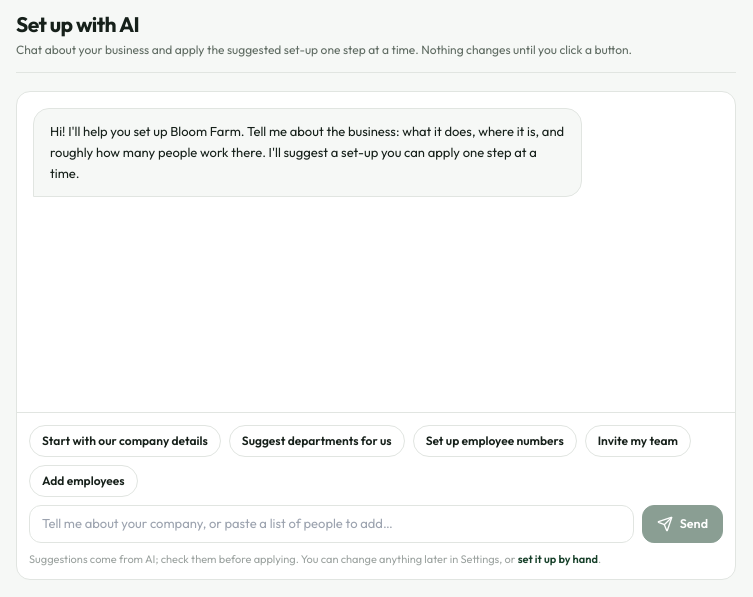
Test: Set up with AI › shows an AI error without losing the conversation
Replace the text in the text box named "Message" with "Hello" at {"x": 331, "y": 524}, box [29,505,634,542]
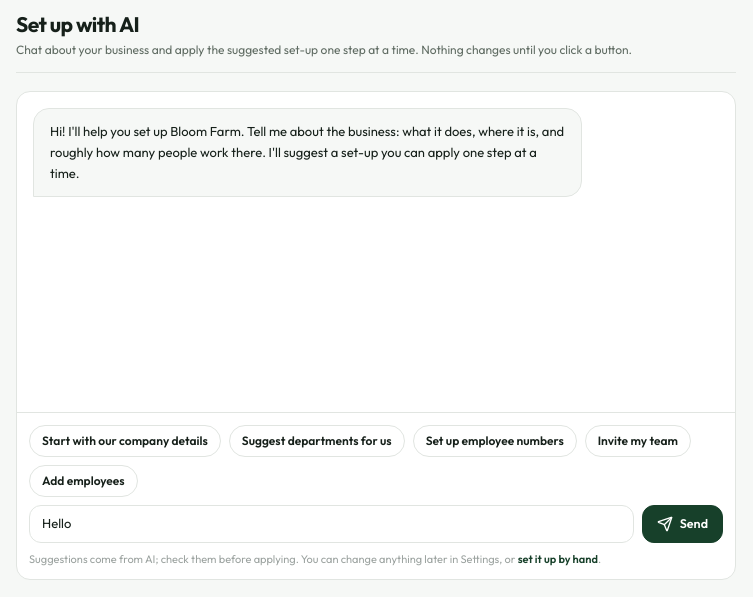
Click the button "Send".
click(682, 524)  # box [642,505,723,542]
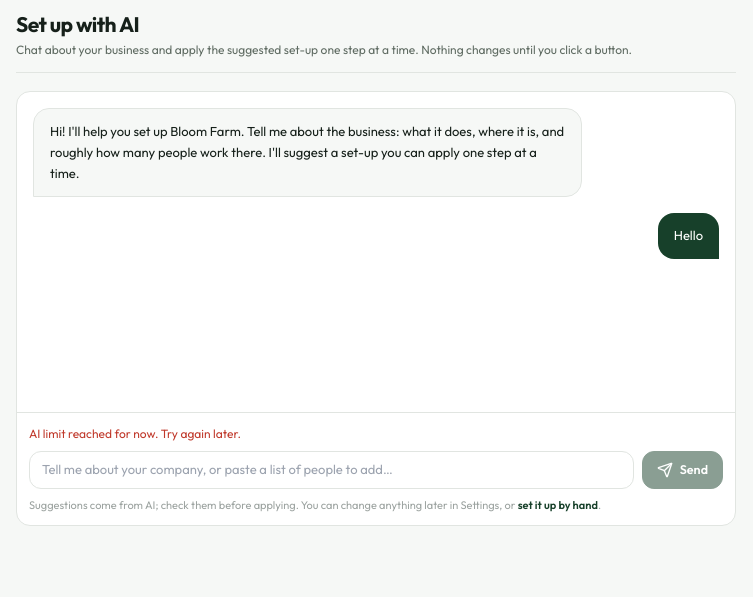
expect the text "AI limit reached for now. Try again later." is shown: met, box [29,426,241,441]
expect the text "Hello" is shown: met, box [658,213,719,258]
